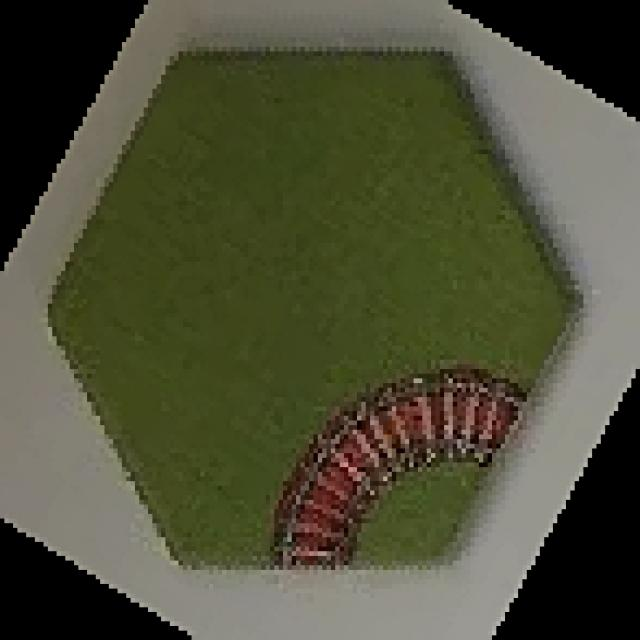1_1: (52, 51, 575, 570)
